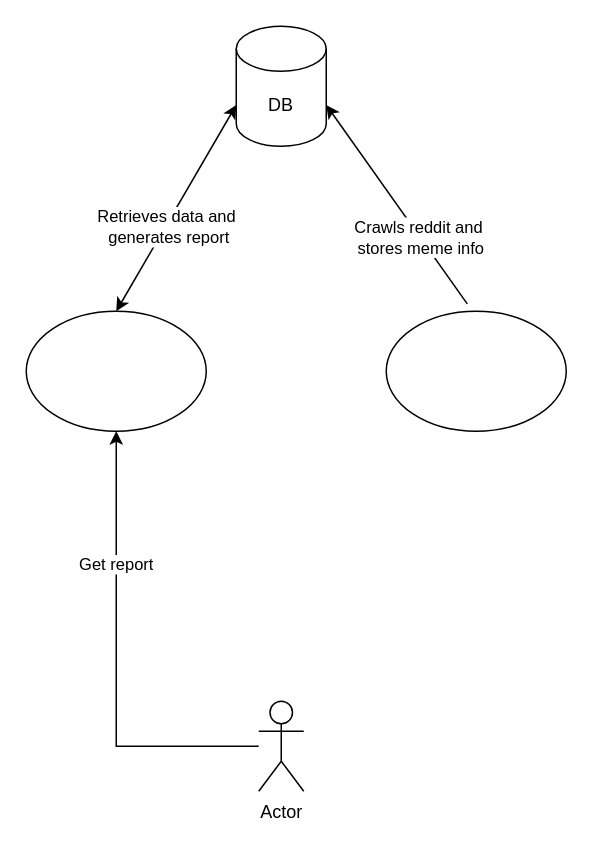
This 593x849 diagram has some shape labels left out. Each missing label, with the centre of its shape:
Crawler (cron job): the point at 475,370
Telegram Bot: the point at 115,370
